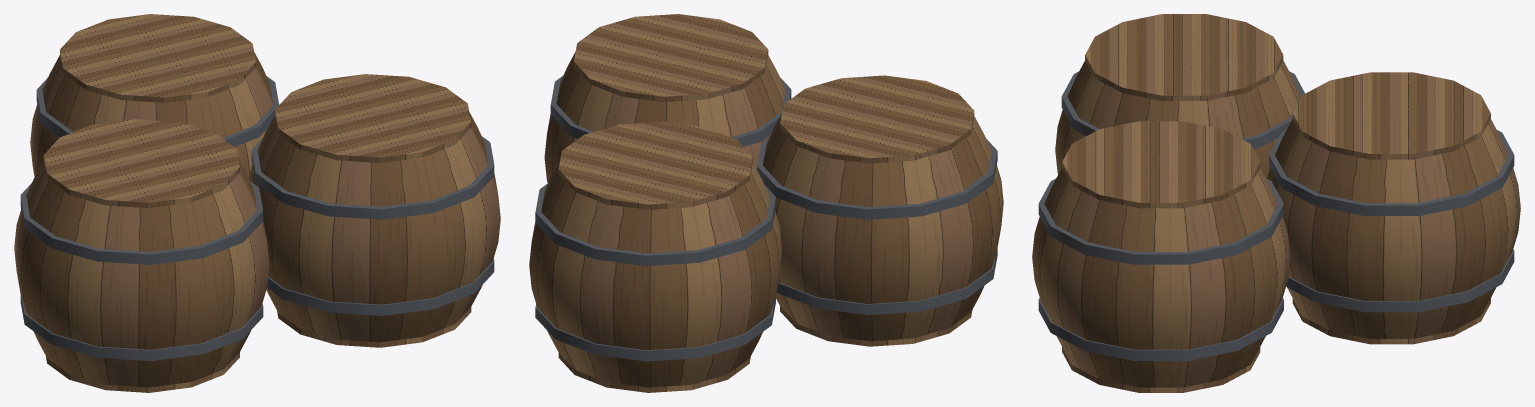
The model's file is barrels.glb.
3 renders of one model, left to right at view 1: azimuth 30°, elevation 25°; view 2: azimuth 150°, elevation 25°; view 3: azimuth 270°, elevation 25°, orthographic.
Parts seen in each view (by area): view 1: barrels; view 2: barrels; view 3: barrels.
Boxes of the visible parts, box(x1,y1,x2,y2) form: barrels: box(14, 14, 500, 392); barrels: box(529, 14, 1003, 392); barrels: box(1032, 14, 1520, 392).
Size of the model in its own units: 2.19 by 0.91 by 2.12.
2 materials, 1 textured.
